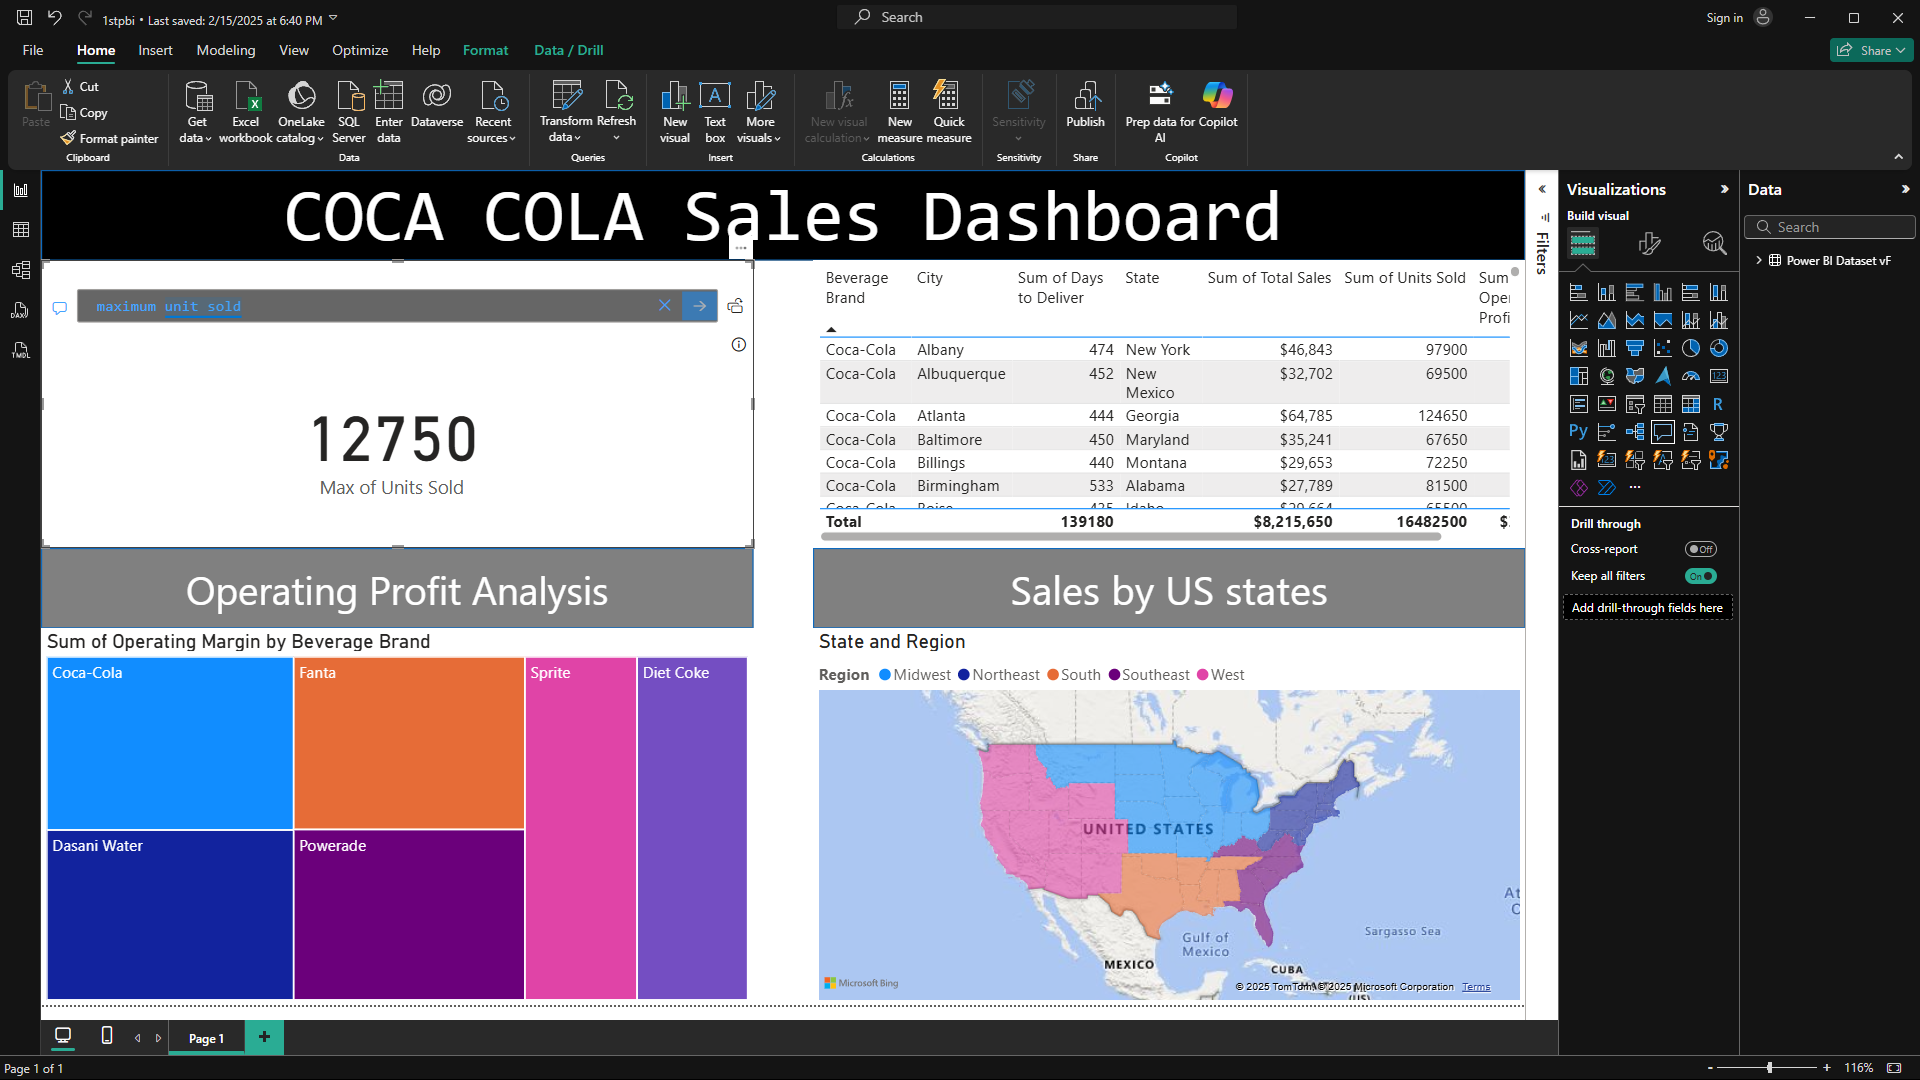

This screenshot's page, from the dashboard's own definition file:
{"tool":"powerbi","page":{"name":"Page 1","canvas":[1280,720],"ordinal":0},"visuals":[{"type":"shape","box":[0,0,1280.3,78.2],"z":0},{"type":"shape","box":[0,326.1,614.6,69.4],"z":1000},{"type":"shape","box":[665.7,326.1,614.6,69.4],"z":2000},{"type":"qnaVisual","box":[0,77.9,614.6,248.3],"z":3000},{"type":"treemap","fields":{"Group":["Power BI Dataset vF.Beverage Brand"],"Values":["Sum(Power BI Dataset vF.Operating Margin)"]},"box":[0,395.5,614.6,324.9],"z":4000},{"type":"filledMap","fields":{"Category":["Power BI Dataset vF.State"],"Series":["Power BI Dataset vF.Region"]},"box":[665.7,395.5,614.6,324.9],"z":5000},{"type":"tableEx","fields":{"Values":["Power BI Dataset vF.Beverage Brand","Power BI Dataset vF.City","Sum(Power BI Dataset vF.Days to Deliver)","Power BI Dataset vF.State","Sum(Power BI Dataset vF.Total Sales)","Sum(Power BI Dataset vF.Units Sold)","Sum(Power BI Dataset vF.Operating Profit)"]},"box":[665.7,77.9,614.6,248.3],"z":6000}]}

Visuals, with their boxes on the page's 1280x720 design canvas (x1, y1, x2, y2). These are canvas units, not pixel positions in the 1920x1080 screenshot, which may show the page scaled, cropped or inside an application window:
shape: 0:0:1280:78
shape: 0:326:615:396
shape: 666:326:1280:396
qnaVisual: 0:78:615:326
treemap - Power BI Dataset vF.Beverage Brand x Sum(Power BI Dataset vF.Operating Margin): 0:396:615:720
filledMap - Power BI Dataset vF.State x Power BI Dataset vF.Region: 666:396:1280:720
tableEx - Power BI Dataset vF.Beverage Brand x Power BI Dataset vF.City: 666:78:1280:326
